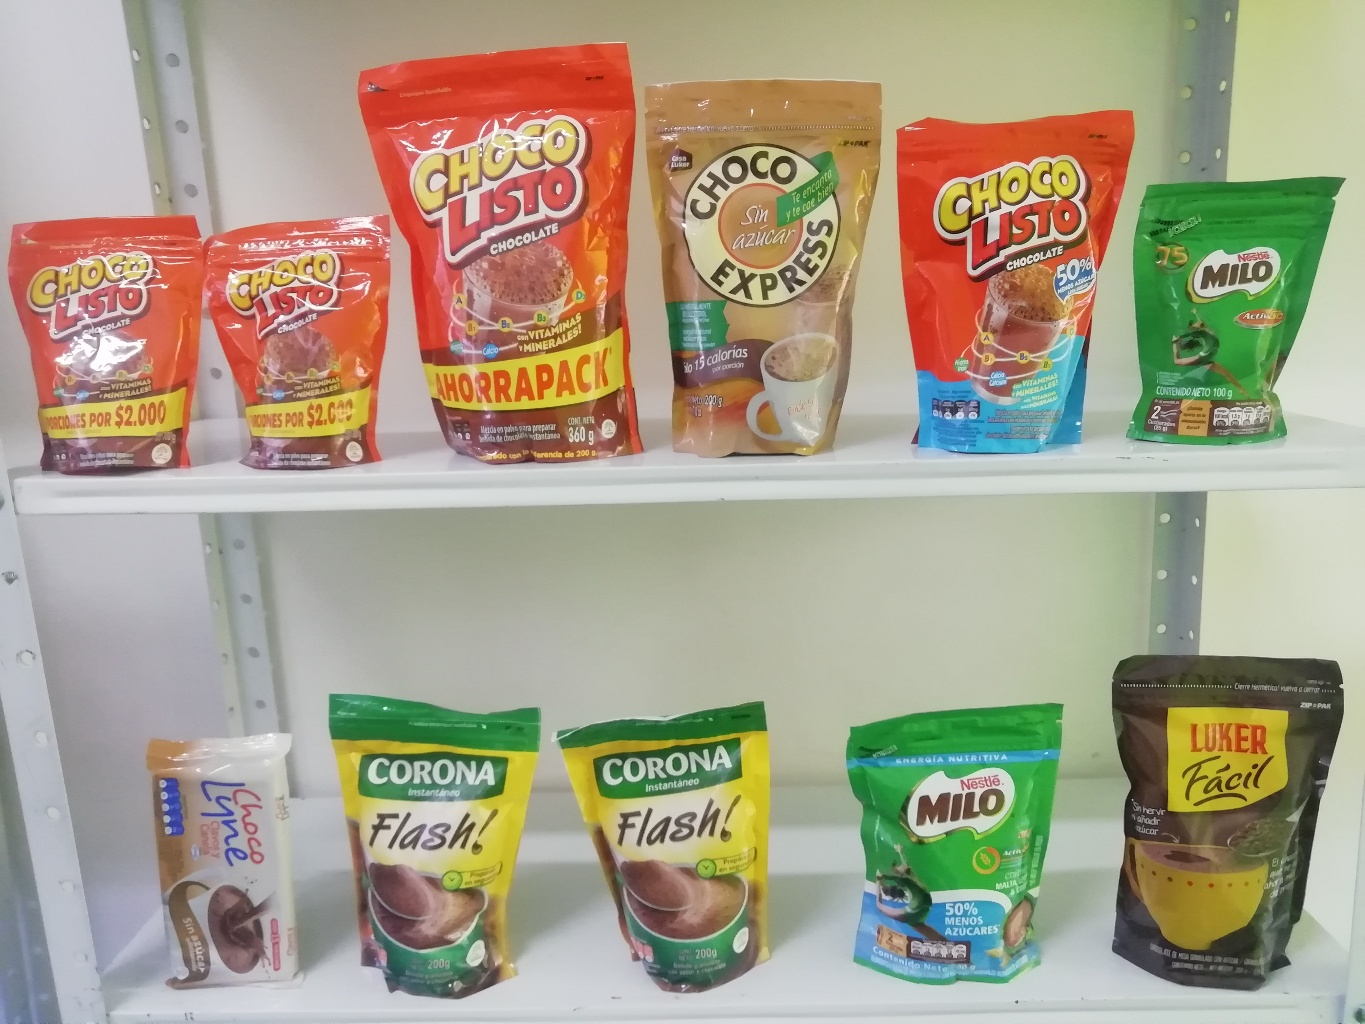COL0170103DYP36000: (354, 46, 639, 461)
COL0170104DYP20000: (890, 99, 1136, 456)
COL0170203DYP10000: (1142, 179, 1332, 450)
COL0170205DYP20000: (841, 714, 1068, 987)
